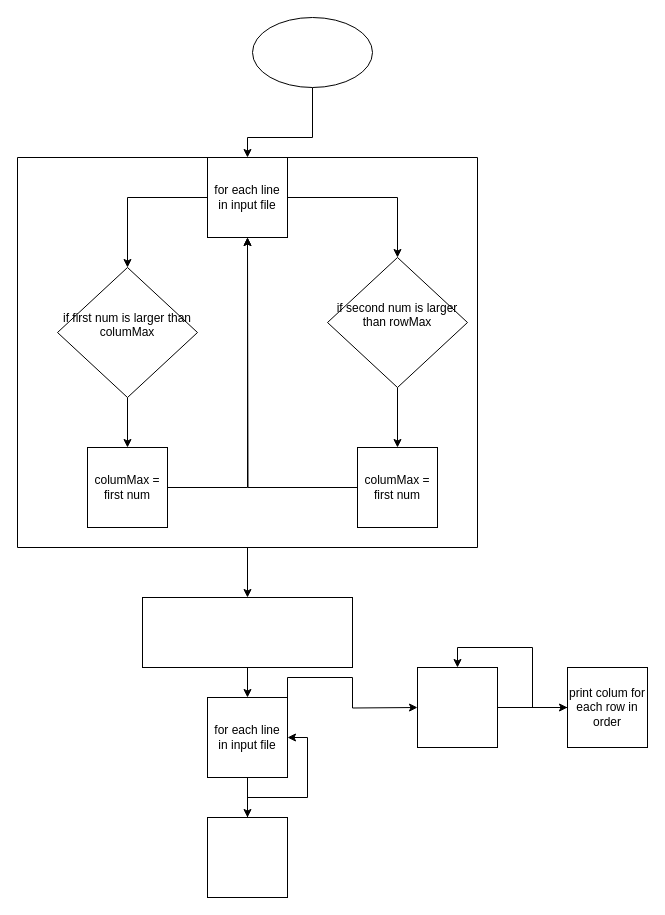
Some shapes in this 665 by 915 pixel diagram are drawn without their labels. Here are the shapes that lost their labels. From the top down, the box of each, then its label:
(252, 16, 372, 88): start
(142, 596, 352, 668): set 2d array with [ColumMax][rowMax]
(416, 666, 498, 748): for each row
(206, 816, 288, 898): set array at colum num, row num to the character
